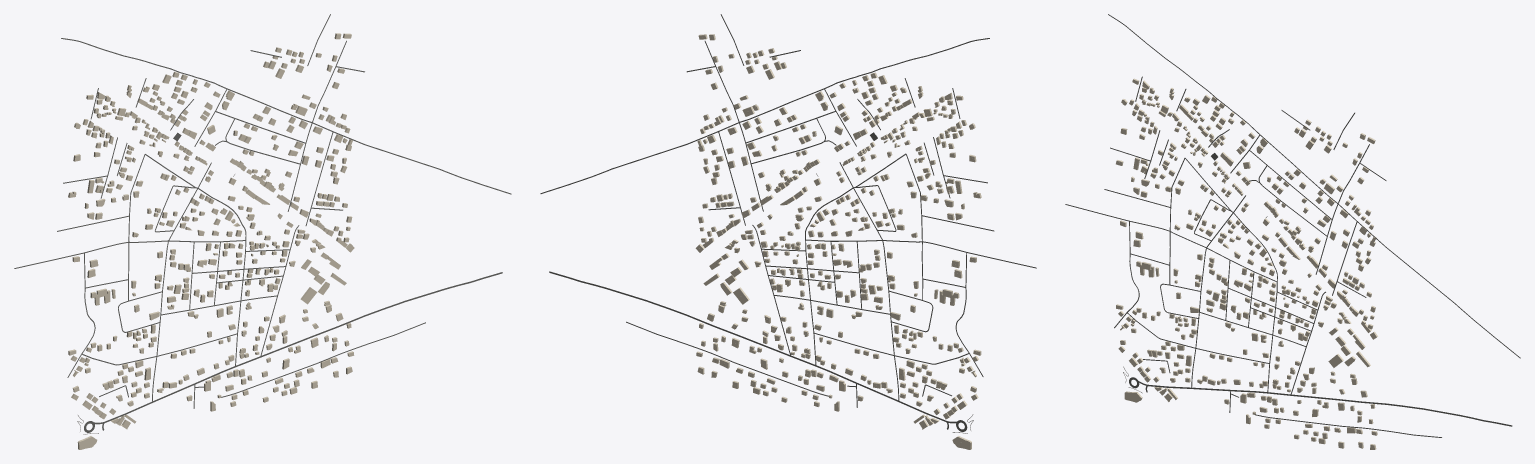
Rendered from irbid_3589_3253.glb.
The picture shows the model from 3 angles, left to right: view 1: azimuth 30°, elevation 25°; view 2: azimuth 150°, elevation 25°; view 3: azimuth 330°, elevation 25°; orthographic projection. The views are drawn at different scales.
Parts seen in each view (by area): view 1: Road .028, Road اربد القديم; view 2: Road .028, Road اربد القديم; view 3: Road .028, Road اربد القديم.
Boxes of the visible parts, x1=… form: Road .028: x1=104, y1=272, x2=502, y2=423; Road اربد القديم: x1=61, y1=38, x2=511, y2=194; Road .028: x1=549, y1=271, x2=946, y2=421; Road اربد القديم: x1=540, y1=38, x2=989, y2=193; Road .028: x1=1147, y1=384, x2=1512, y2=426; Road اربد القديم: x1=1108, y1=14, x2=1520, y2=358.
Bounding box in the file's own units: 1665 × 1334 × 8.7.
